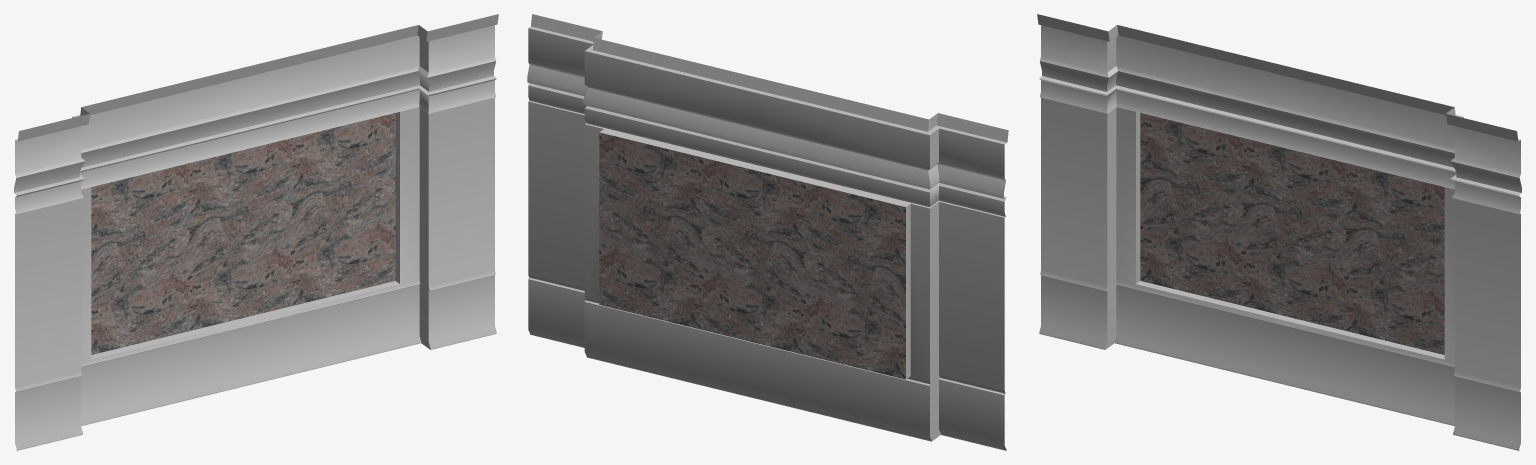
File: Wall_1.FBX
The picture shows the model from 3 angles, left to right: view 1: azimuth 30°, elevation 25°; view 2: azimuth 150°, elevation 25°; view 3: azimuth 330°, elevation 25°; orthographic projection.
Visible parts, largest first — view 1: Wall; view 2: Wall; view 3: Wall.
Boxes of the visible parts, <box> form: Wall: <box>14,14,498,450</box>; Wall: <box>527,14,1008,450</box>; Wall: <box>1037,14,1521,450</box>.
Size of the model in its own units: 6 by 3.84 by 0.3855.
